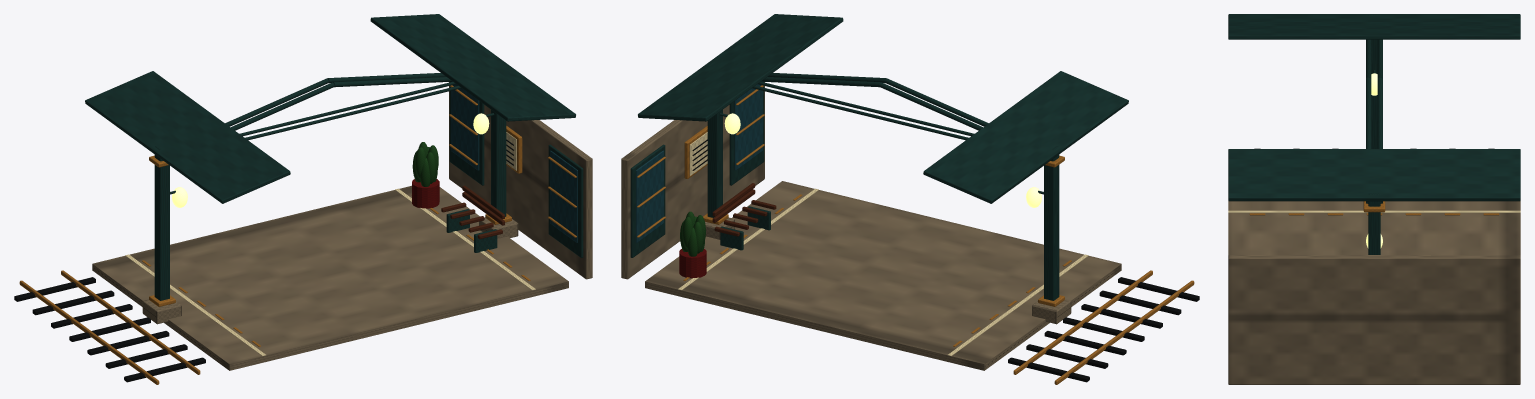
File: station-bay-v1-CEqPLyoj.glb
The picture shows the model from 3 angles, left to right: view 1: azimuth 30°, elevation 25°; view 2: azimuth 150°, elevation 25°; view 3: azimuth 270°, elevation 25°; orthographic projection. The views are drawn at different scales.
Visible parts, largest first — view 1: Platform paving, Roof left, Fluted iron column, Roof right, Window glass, Timetable rows, Tactile edge stud, Platform edge stripe, Bench seat slat, Plant foliage, Plant pot, Opal station lamp; view 2: Platform paving, Roof left, Fluted iron column, Roof right, Timetable rows, Window glass, Tactile edge stud, Platform edge stripe, Bench seat slat, Plant foliage, Plant pot, Opal station lamp; view 3: Platform paving, Roof right, Roof left, Fluted iron column, Platform edge stripe, Tactile edge stud.
Part boxes in pixels (x1,y1,x2,y2): Platform paving: (92, 82, 592, 370); Roof left: (85, 71, 290, 203); Fluted iron column: (154, 62, 583, 300); Roof right: (370, 14, 575, 121); Window glass: (451, 81, 577, 242); Timetable rows: (14, 139, 513, 382); Tactile edge stud: (19, 85, 576, 384); Platform edge stripe: (125, 132, 535, 356); Bench seat slat: (441, 185, 504, 239); Plant foliage: (412, 142, 438, 186); Plant pot: (412, 179, 439, 208); Opal station lamp: (172, 113, 489, 207); Platform paving: (621, 82, 1121, 370); Roof left: (923, 71, 1128, 203); Fluted iron column: (630, 62, 1059, 300); Roof right: (638, 14, 843, 121); Timetable rows: (692, 139, 1199, 382); Window glass: (636, 81, 762, 242); Tactile edge stud: (637, 85, 1194, 384); Platform edge stripe: (678, 132, 1088, 356); Bench seat slat: (712, 183, 776, 236); Plant foliage: (680, 211, 705, 256); Plant pot: (679, 249, 706, 278); Opal station lamp: (724, 113, 1041, 207); Platform paving: (1228, 201, 1520, 384); Roof right: (1228, 149, 1520, 201); Roof left: (1228, 14, 1520, 39); Fluted iron column: (1366, 15, 1382, 254); Platform edge stripe: (1228, 210, 1520, 212); Tactile edge stud: (1249, 201, 1499, 215).
Size of the model in its own units: 14.31 by 5.99 by 7.5.
Materials: 10 (10 with a texture image).
